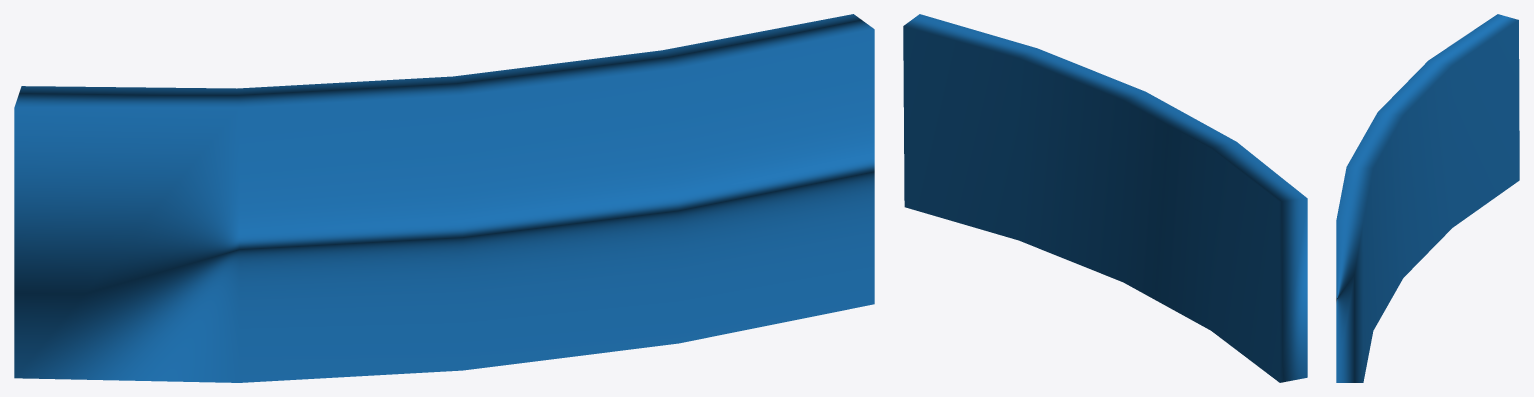
The model's file is Edge_Turn_90_05.fbx.
3 renders of one model, left to right at view 1: azimuth 30°, elevation 25°; view 2: azimuth 150°, elevation 25°; view 3: azimuth 270°, elevation 25°, orthographic. The views are drawn at different scales.
Visible parts, largest first — view 1: Edge_Turn_90_05; view 2: Edge_Turn_90_05; view 3: Edge_Turn_90_05.
Part boxes in pixels (box(x1,y1,x2,y2)): Edge_Turn_90_05: box(14, 14, 874, 382); Edge_Turn_90_05: box(903, 14, 1307, 382); Edge_Turn_90_05: box(1336, 14, 1519, 382).
Size of the model in its own units: 8 by 2.9 by 2.97.
